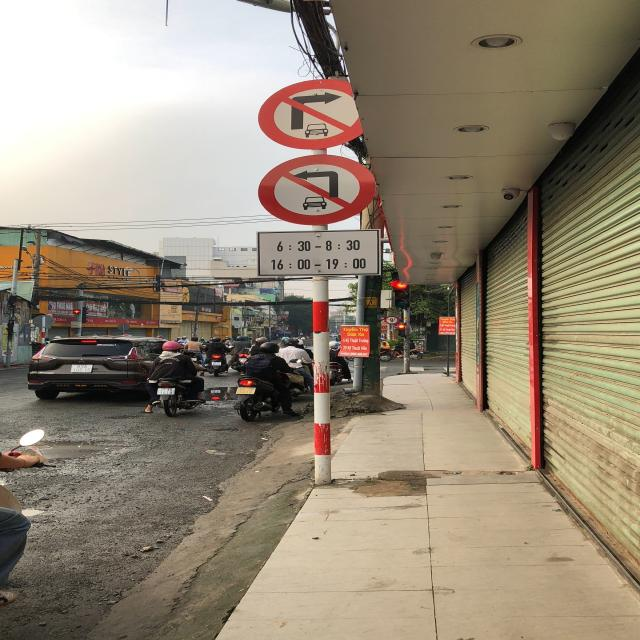Bien bao cam xe o to re phai: (251, 74, 372, 148)
Bien bao cam xe o to re trai: (251, 150, 381, 227)
